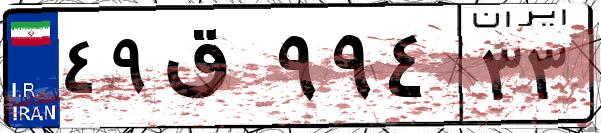3: (475, 38, 525, 113), (525, 38, 570, 115)
4: (385, 28, 445, 110), (57, 26, 110, 100)
9: (270, 28, 330, 110), (330, 28, 385, 110), (110, 28, 158, 98)
ق: (158, 20, 270, 120)
